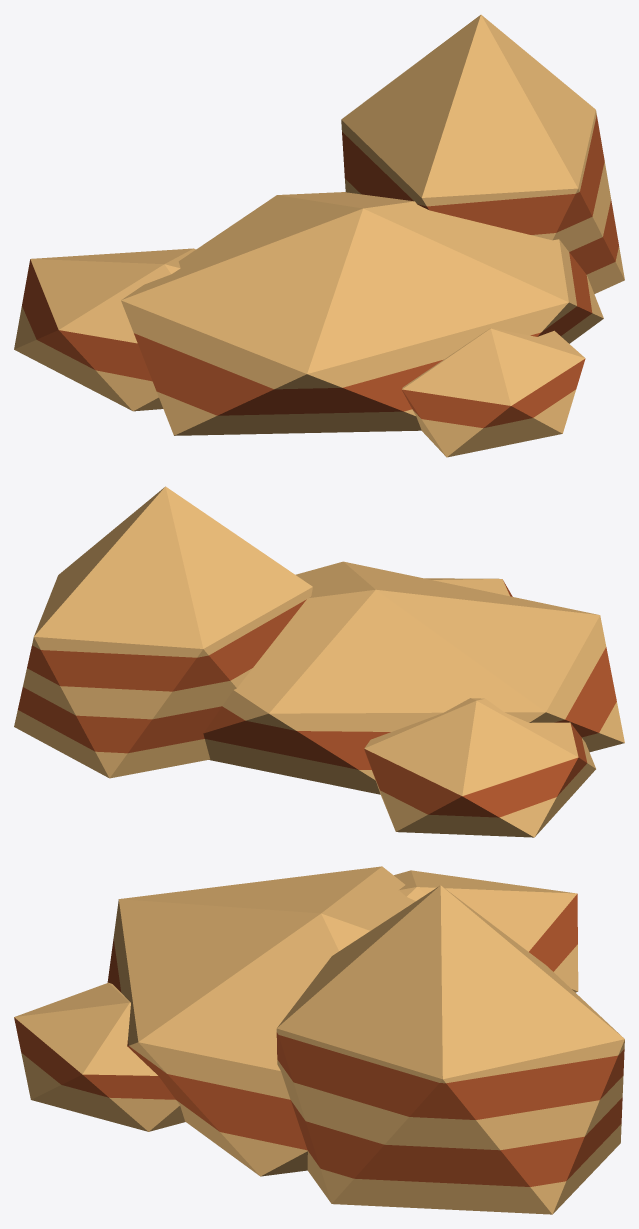
Rendered from W5_CanyonRock_C.fbx.
The picture shows the model from 3 angles, top to bottom: view 1: azimuth 30°, elevation 25°; view 2: azimuth 150°, elevation 25°; view 3: azimuth 270°, elevation 25°; orthographic projection. The views are drawn at different scales.
Parts seen in each view (by area): view 1: W5_CanyonRock_C; view 2: W5_CanyonRock_C; view 3: W5_CanyonRock_C.
Part boxes in pixels (x1=…): W5_CanyonRock_C: x1=14, y1=14, x2=624, y2=457; W5_CanyonRock_C: x1=14, y1=486, x2=624, y2=837; W5_CanyonRock_C: x1=14, y1=866, x2=624, y2=1214.
Bounding box in the file's own units: 4.58 × 2.01 × 4.09.
